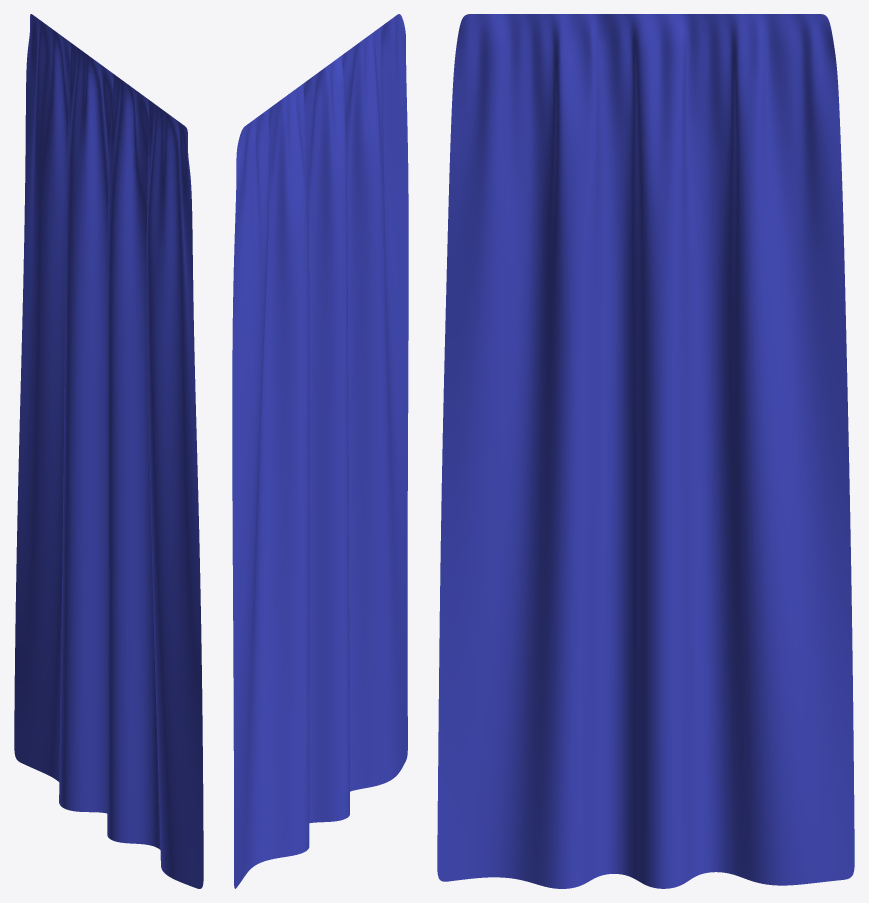
The model's file is curtain.fbx.
The picture shows the model from 3 angles, left to right: view 1: azimuth 30°, elevation 25°; view 2: azimuth 150°, elevation 25°; view 3: azimuth 270°, elevation 25°; orthographic projection. The views are drawn at different scales.
Visible parts, largest first — view 1: Plane; view 2: Plane; view 3: Plane.
Part boxes in pixels (x1,y1,x2,y2): Plane: [14, 14, 203, 888]; Plane: [232, 14, 408, 888]; Plane: [437, 14, 854, 888].
Size of the model in its own units: 8.12 by 195 by 85.21.
